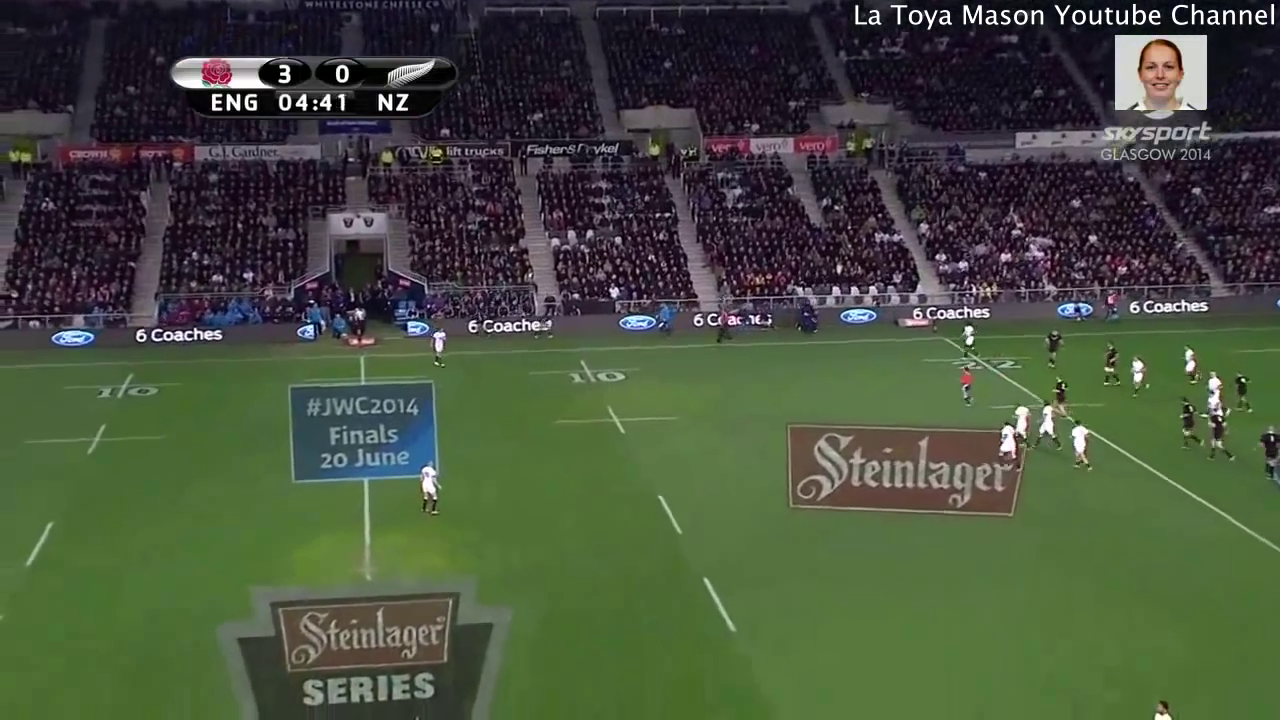10_metre: (19, 419, 173, 463), (546, 401, 692, 437), (58, 367, 189, 407), (520, 354, 650, 393)
player: (1173, 381, 1208, 458), (1026, 396, 1070, 457), (1204, 406, 1242, 470), (1245, 419, 1280, 486), (415, 456, 449, 522), (991, 417, 1026, 477), (1066, 417, 1099, 479), (1121, 348, 1154, 401), (1229, 366, 1260, 421), (1010, 397, 1039, 454), (421, 320, 451, 373), (1098, 334, 1124, 394), (1048, 371, 1078, 423), (1036, 326, 1068, 370), (1177, 335, 1200, 389), (954, 362, 978, 408), (950, 319, 978, 356), (1142, 693, 1180, 720), (1197, 361, 1226, 394), (1201, 386, 1226, 416)
